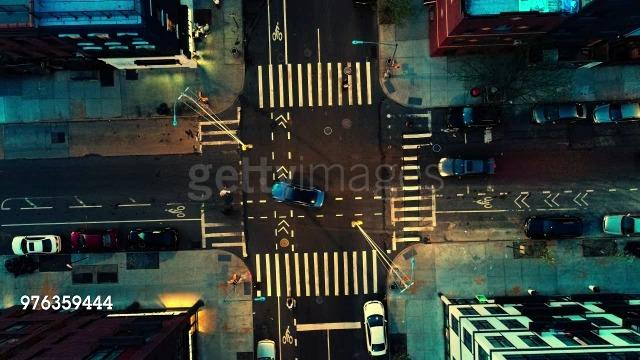car: (268, 176, 330, 214), (360, 300, 394, 356), (437, 153, 498, 181), (444, 104, 506, 130), (524, 214, 584, 240), (125, 228, 182, 252), (530, 104, 588, 124), (68, 230, 120, 252), (10, 236, 66, 256), (592, 105, 640, 124), (602, 215, 640, 235), (257, 339, 277, 360)
